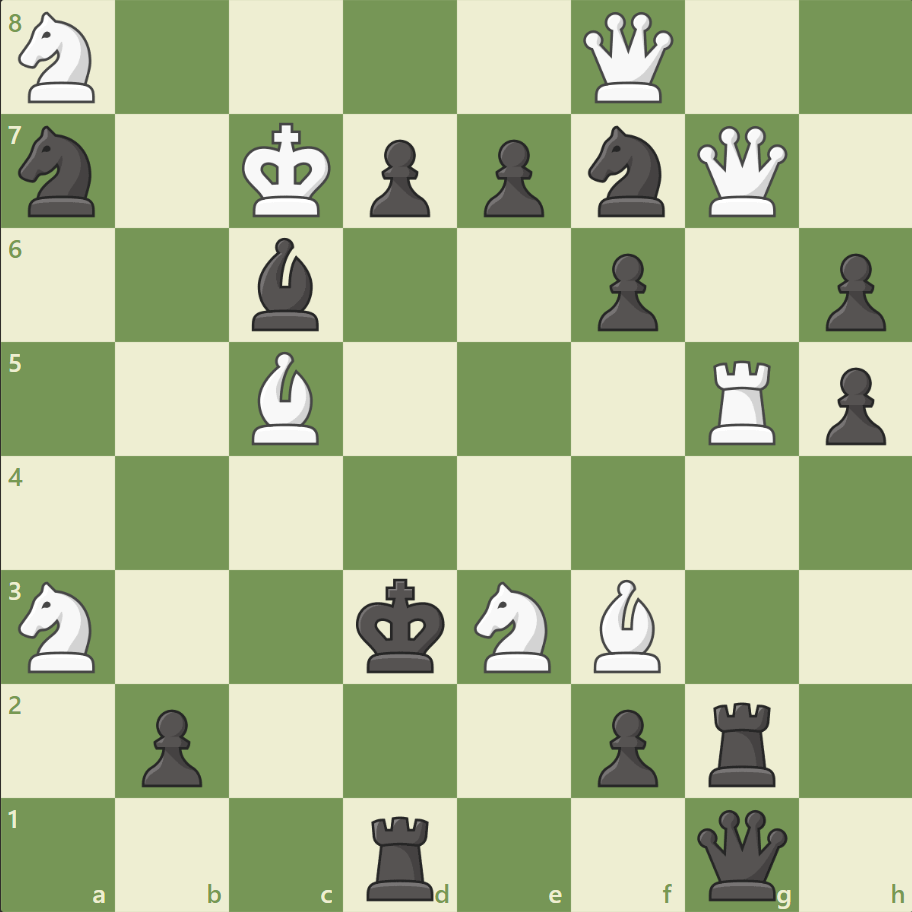B: (244, 347, 328, 449), (585, 574, 669, 676)
K: (238, 117, 338, 225)
N: (11, 7, 108, 110), (11, 575, 108, 677), (465, 575, 562, 677)
Q: (691, 122, 790, 222), (578, 9, 677, 108)
R: (700, 352, 783, 449)
b: (244, 233, 328, 336)
k: (351, 571, 451, 679)
n: (11, 121, 108, 223), (579, 121, 676, 223)
p: (474, 132, 549, 223), (133, 700, 208, 791), (361, 132, 435, 223), (588, 246, 662, 337), (815, 246, 889, 337), (815, 359, 889, 450), (588, 700, 662, 791)
q: (691, 804, 790, 903)
r: (700, 693, 783, 790), (360, 806, 442, 904)
